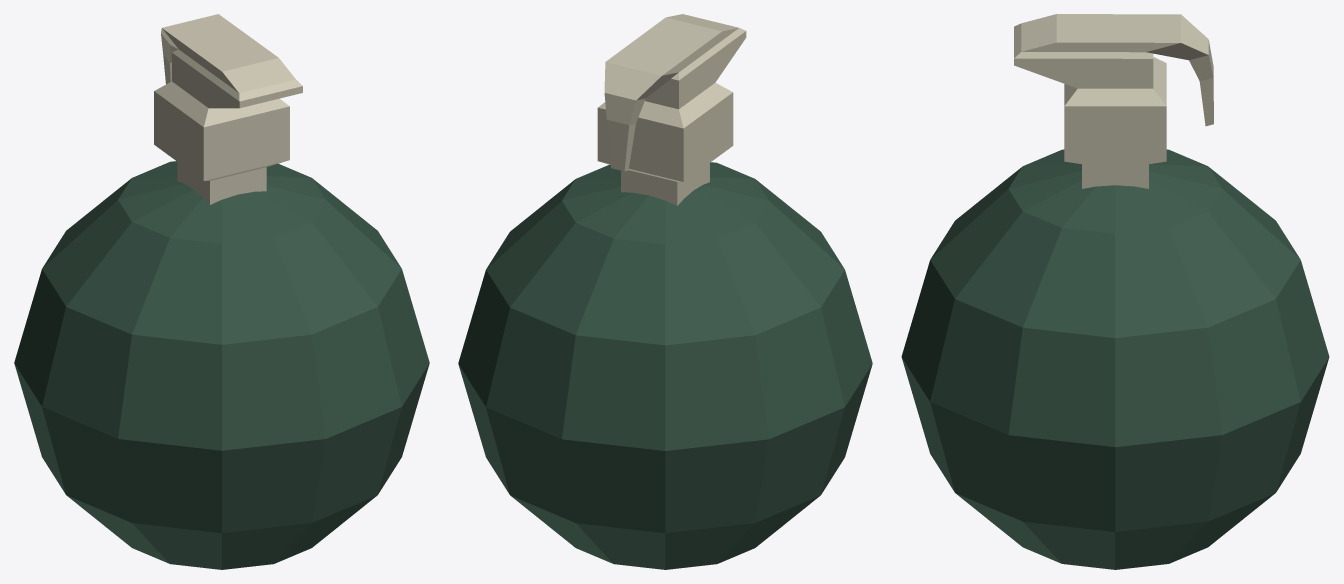
File: grenade_ammo.fbx
The picture shows the model from 3 angles, left to right: view 1: azimuth 30°, elevation 25°; view 2: azimuth 150°, elevation 25°; view 3: azimuth 270°, elevation 25°; orthographic projection. The views are drawn at different scales.
Parts seen in each view (by area): view 1: Grenade Ammo; view 2: Grenade Ammo; view 3: Grenade Ammo.
Part boxes in pixels (bbox=[...]): Grenade Ammo: bbox=[14, 14, 429, 569]; Grenade Ammo: bbox=[458, 14, 872, 569]; Grenade Ammo: bbox=[901, 14, 1329, 569].
Size of the model in its own units: 57.74 by 77.77 by 57.74.
